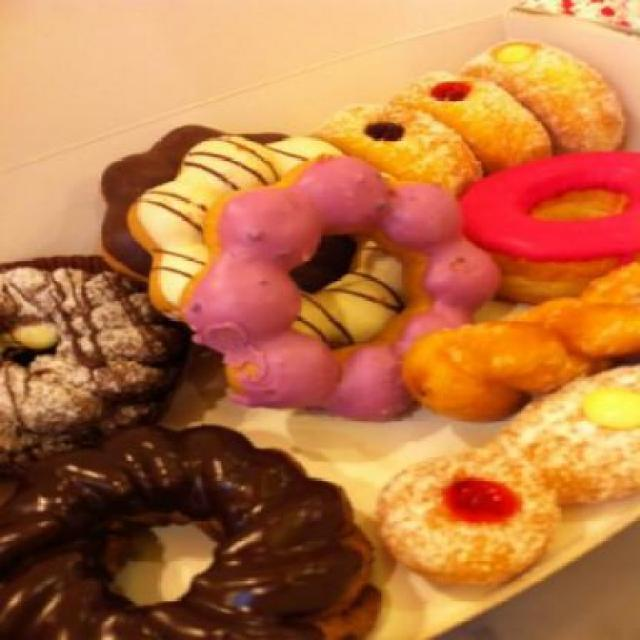Donuts: (3, 36, 639, 639)
